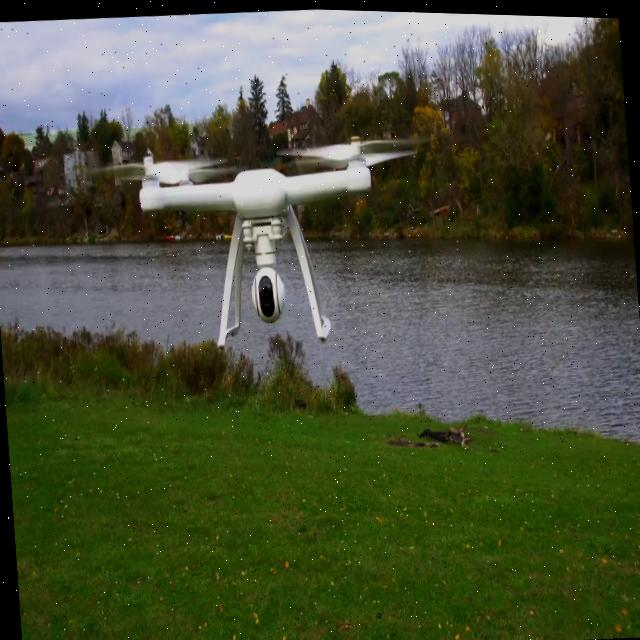drone: (61, 8, 447, 467)
